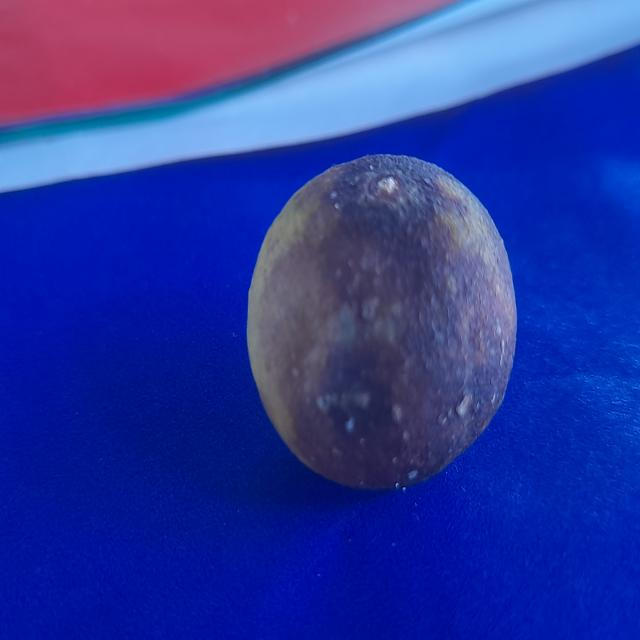black spot: (242, 136, 521, 521)
